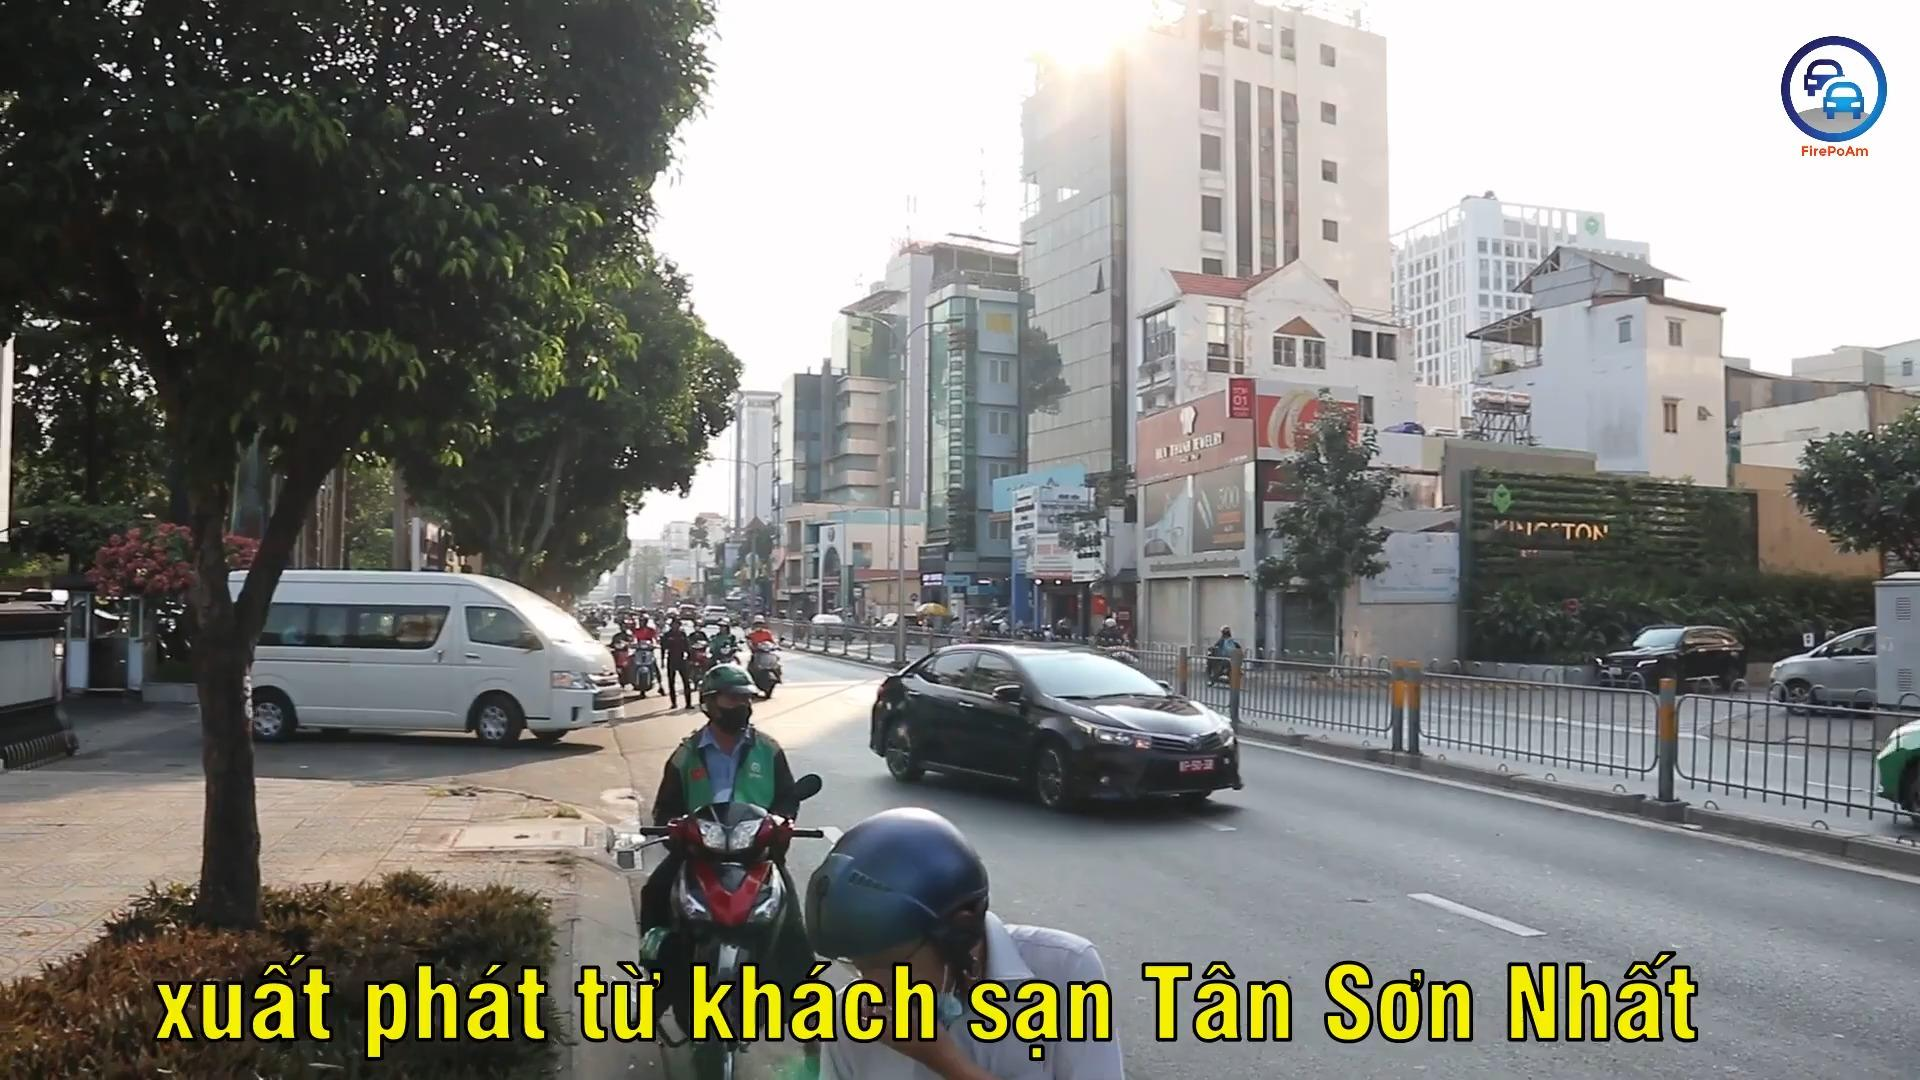bien_so: (1177, 757, 1217, 774)
